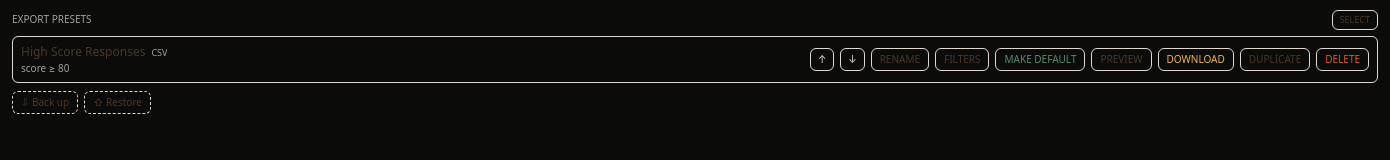
Test: ExportPresetsPanel › surfaces a failed preset download without losing the row
This screenshot has width=1390, height=160.
Click the button with aria-label "download export preset high score responses" at (1196, 59), box top-left (1158, 48), bottom-right (1234, 70)
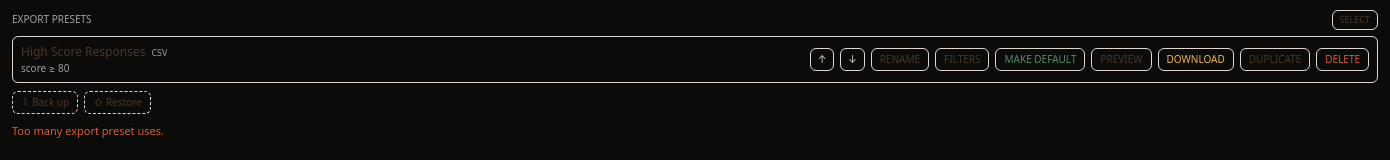
Expected: the text "High Score Responses" is shown, top-left (21, 42), bottom-right (145, 60)
Expected: the message reads "Too many export preset uses.", top-left (12, 122), bottom-right (164, 138)
